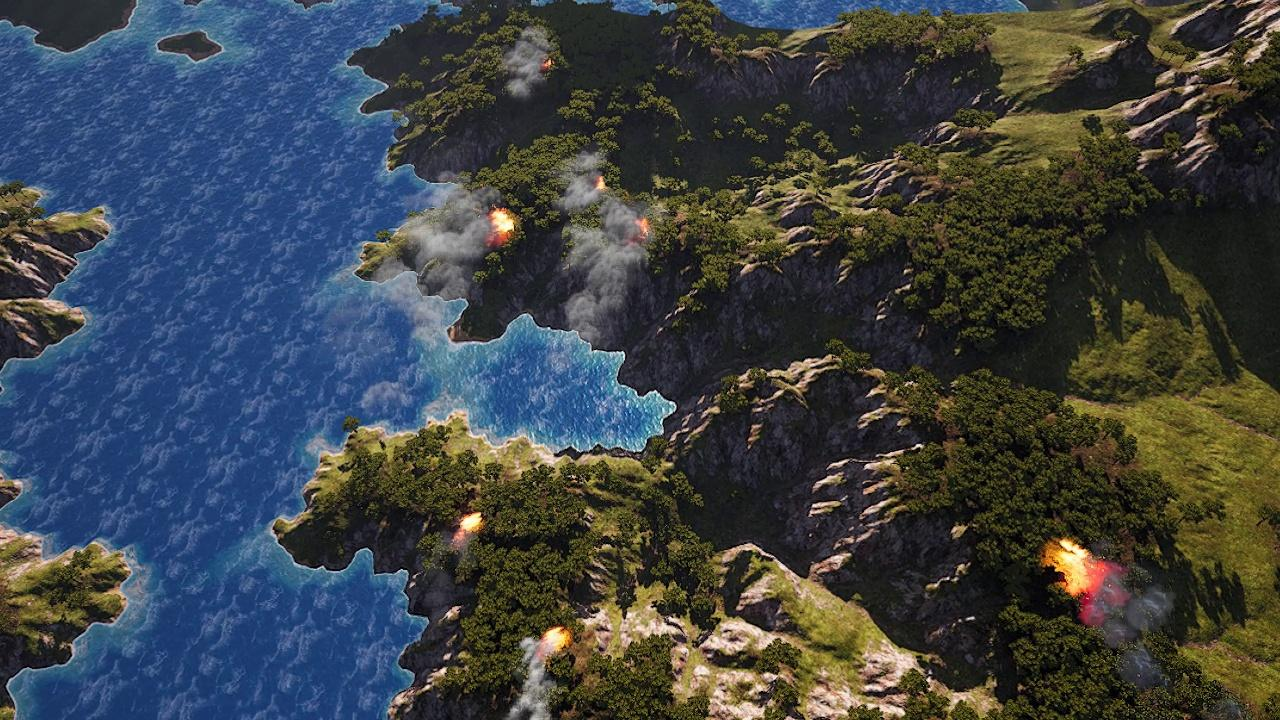fire: (1053, 542, 1099, 597), (490, 210, 516, 240), (545, 628, 571, 651), (461, 512, 484, 532), (635, 216, 650, 237), (593, 177, 606, 192), (542, 58, 556, 71)
smoke: (373, 177, 501, 345), (552, 148, 650, 356), (1078, 568, 1185, 690), (495, 639, 569, 720), (504, 28, 557, 101)
